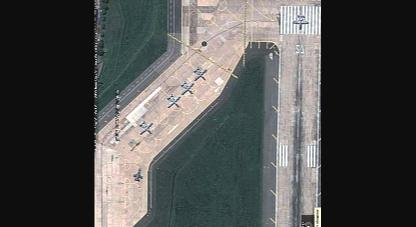A10: (294, 14, 310, 29), (140, 120, 154, 134), (180, 80, 194, 94), (167, 92, 180, 107), (194, 65, 207, 80)
F14: (134, 166, 144, 180)
